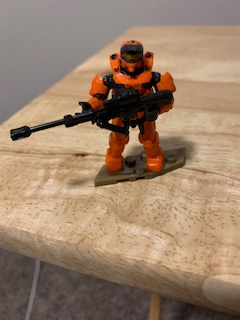spartan: (77, 40, 179, 174)
